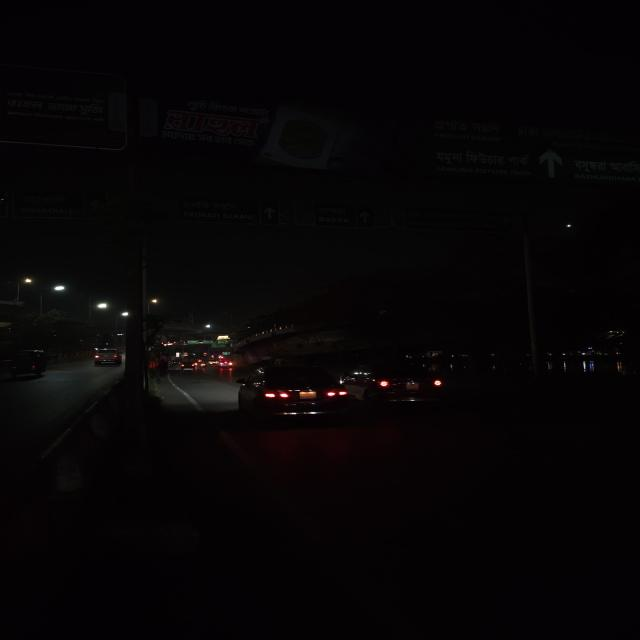car: (234, 362, 350, 423), (351, 362, 450, 409), (90, 346, 124, 366), (216, 360, 235, 368)
cng: (2, 348, 52, 382)
pedestrian: (154, 357, 172, 382)
pickup_van: (178, 356, 200, 372)
